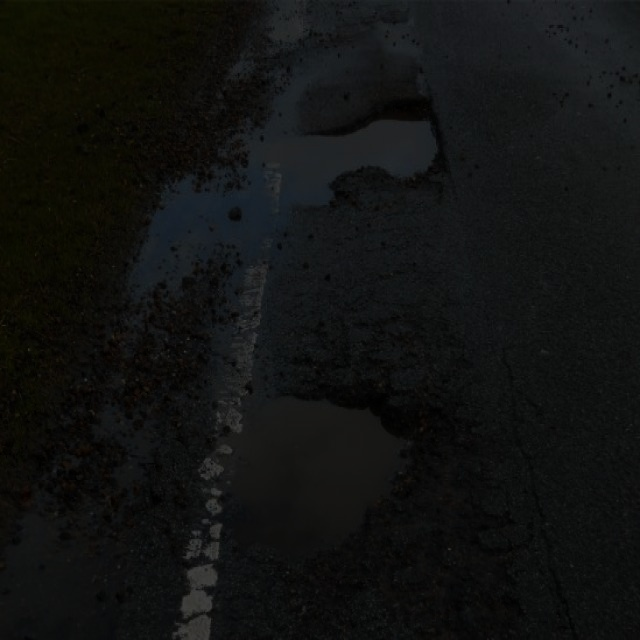Pothole: (221, 372, 443, 566), (290, 88, 448, 208)
